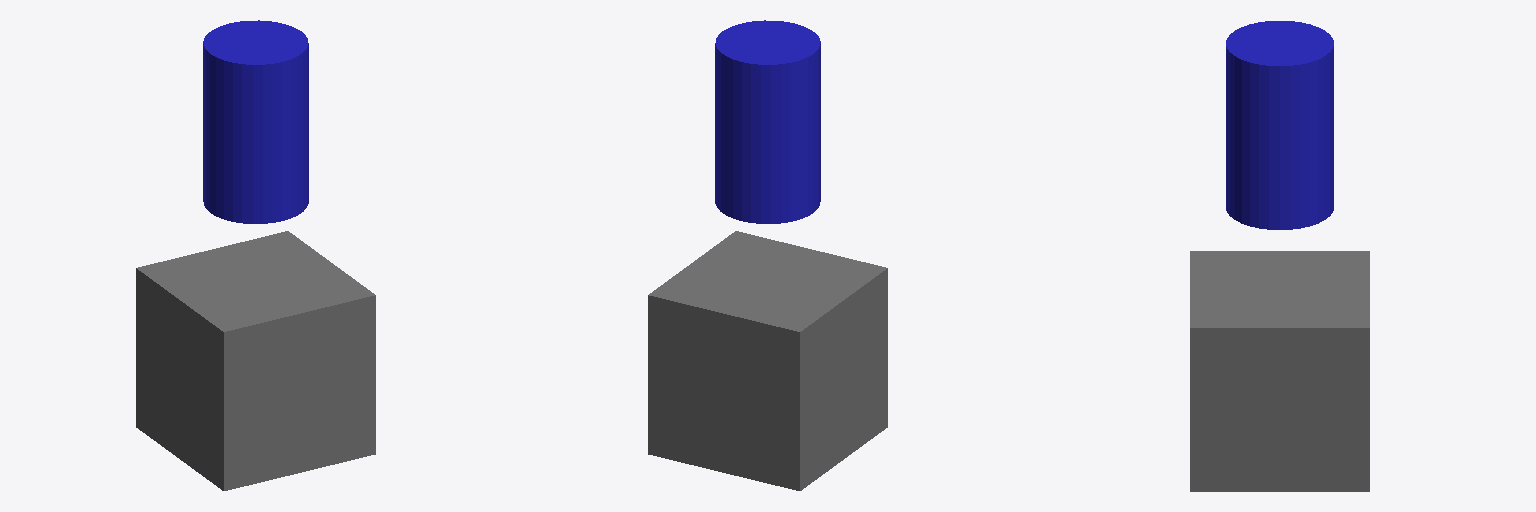
URDF robot description (DM8006):
<?xml version="1.0" encoding="utf-8"?>
<robot name="DM8006">

  <!-- Base link (fixed) -->
  <link name="l_hip_roll_link">
    <inertial>
      <origin xyz="0 0 0" rpy="0 0 0" />
      <mass value="0.4813" />
      <inertia
        ixx="0.0002035"
        ixy="0"
        ixz="0"
        iyy="0.00026097"
        iyz="0"
        izz="0.00041524" />
    </inertial>
    <visual>
      <origin xyz="0 0 0" rpy="0 0 0" />
      <geometry>
        <box size="0.1 0.1 0.1"/>
      </geometry>
      <material name="grey">
        <color rgba="0.5 0.5 0.5 1" />
      </material>
    </visual>
    <collision>
      <origin xyz="0 0 0" rpy="0 0 0" />
      <geometry>
        <box size="0.1 0.1 0.1"/>
      </geometry>
    </collision>
  </link>

  <!-- Moving link -->
  <link name="l_hip_yaw_link">
    <inertial>
      <origin xyz="0 0 0.05" rpy="0 0 0" />
      <mass value="0.1" />
      <inertia
        ixx="0.0001"
        ixy="0"
        ixz="0"
        iyy="0.0001"
        iyz="0"
        izz="0.00005" />
    </inertial>
    <visual>
      <origin xyz="0 0 0.05" rpy="0 0 0" />
      <geometry>
        <cylinder radius="0.03" length="0.1"/>
      </geometry>
      <material name="blue">
        <color rgba="0.2 0.2 0.8 1" />
      </material>
    </visual>
    <collision>
      <origin xyz="0 0 0.05" rpy="0 0 0" />
      <geometry>
        <cylinder radius="0.03" length="0.1"/>
      </geometry>
    </collision>
  </link>

  <!-- Joint -->
  <joint name="l_hip_yaw_joint" type="revolute">
    <origin xyz="0 0 0.1" rpy="0 0 0" />
    <parent link="l_hip_roll_link" />
    <child link="l_hip_yaw_link" />
    <axis xyz="0 0 1" />
    <limit
      lower="-1.57"
      upper="1.57"
      effort="14"
      velocity="12.56" />
    <dynamics damping="0.1" friction="0.01" />
  </joint>

</robot>

--- Render facts (derived) ---
The picture shows the robot from 3 angles, left to right: view 1: azimuth 30°, elevation 25°; view 2: azimuth 150°, elevation 25°; view 3: azimuth 270°, elevation 25°; orthographic projection.
Model DM8006 with 2 links and 1 joints (1 revolute), rooted at l_hip_roll_link, posed all joints at 0.
Links seen in each view (by area): view 1: l_hip_roll_link, l_hip_yaw_link; view 2: l_hip_roll_link, l_hip_yaw_link; view 3: l_hip_roll_link, l_hip_yaw_link.
Boxes of the visible links, x1,y1,x2,y2 form: l_hip_roll_link: [136, 231, 375, 490]; l_hip_yaw_link: [203, 20, 308, 223]; l_hip_roll_link: [648, 231, 887, 490]; l_hip_yaw_link: [715, 20, 820, 223]; l_hip_roll_link: [1190, 251, 1369, 491]; l_hip_yaw_link: [1226, 21, 1333, 229].
Size in the robot's own frame: 0.1 by 0.1 by 0.25 metres.
Geometry: primitives only (box / cylinder / sphere), no mesh files.
